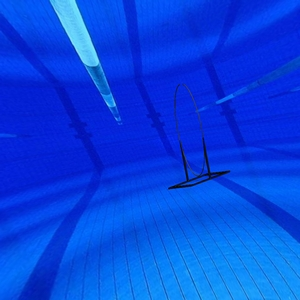circle: (167, 82, 232, 191)
